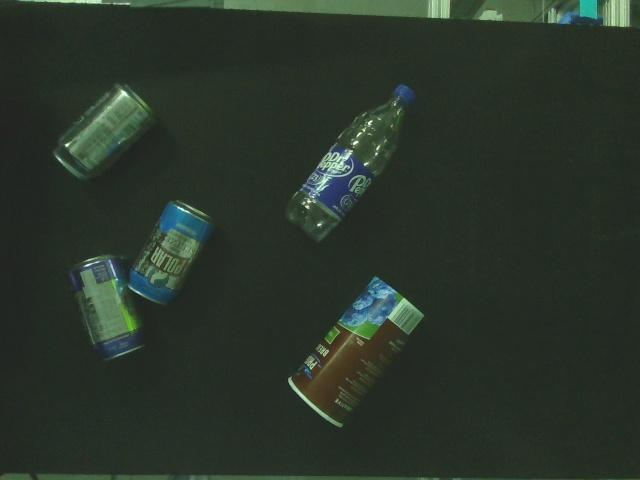cardboard: (282, 272, 428, 432)
metal: (48, 80, 163, 189), (62, 246, 150, 379), (123, 192, 221, 311)
plastic: (281, 77, 421, 250)
